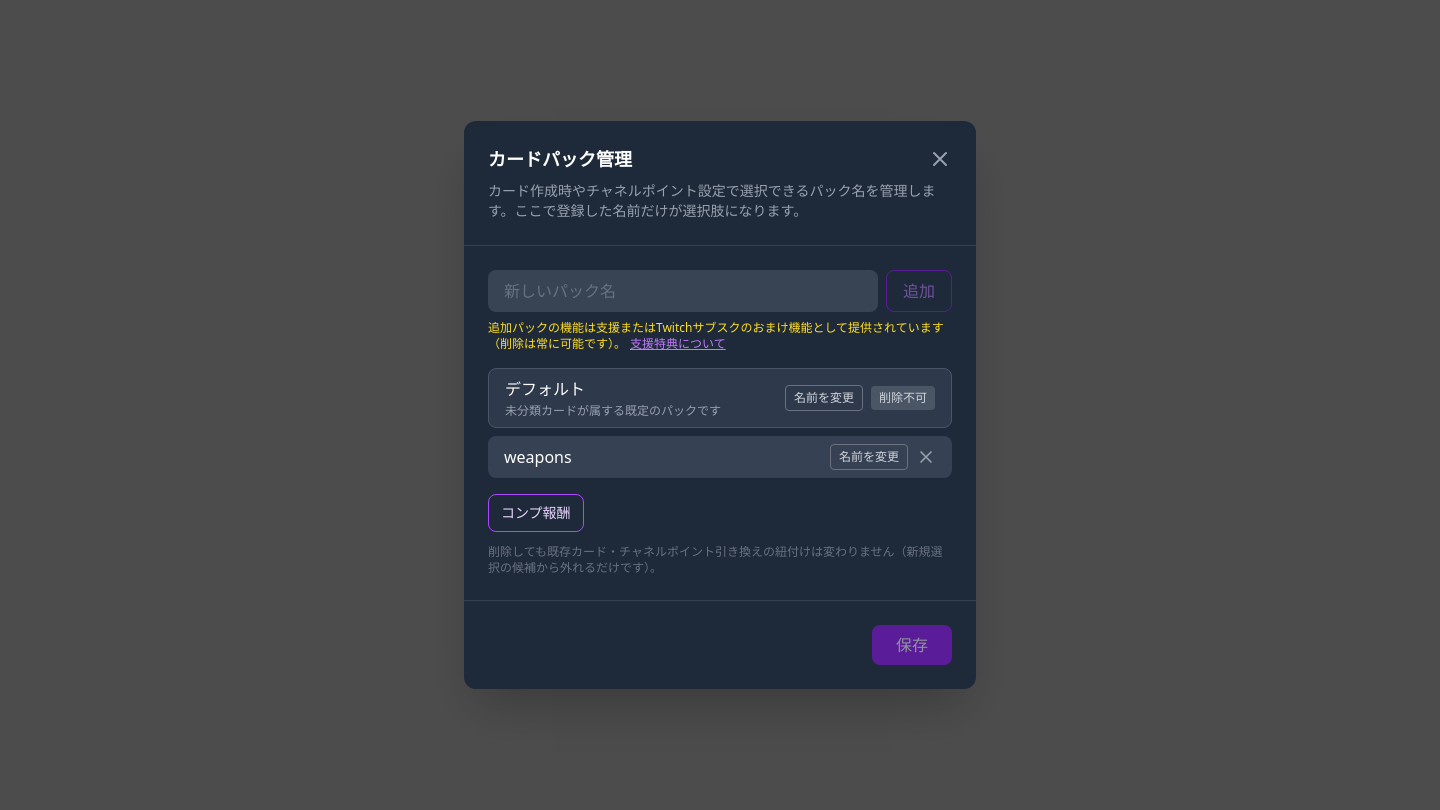
Test: CardPackModal › renaming an existing pack › shows a server-returned error and keeps editing on failure
Click the button with aria-label "Rename weapons".
click(869, 457)  # box [830, 444, 908, 470]
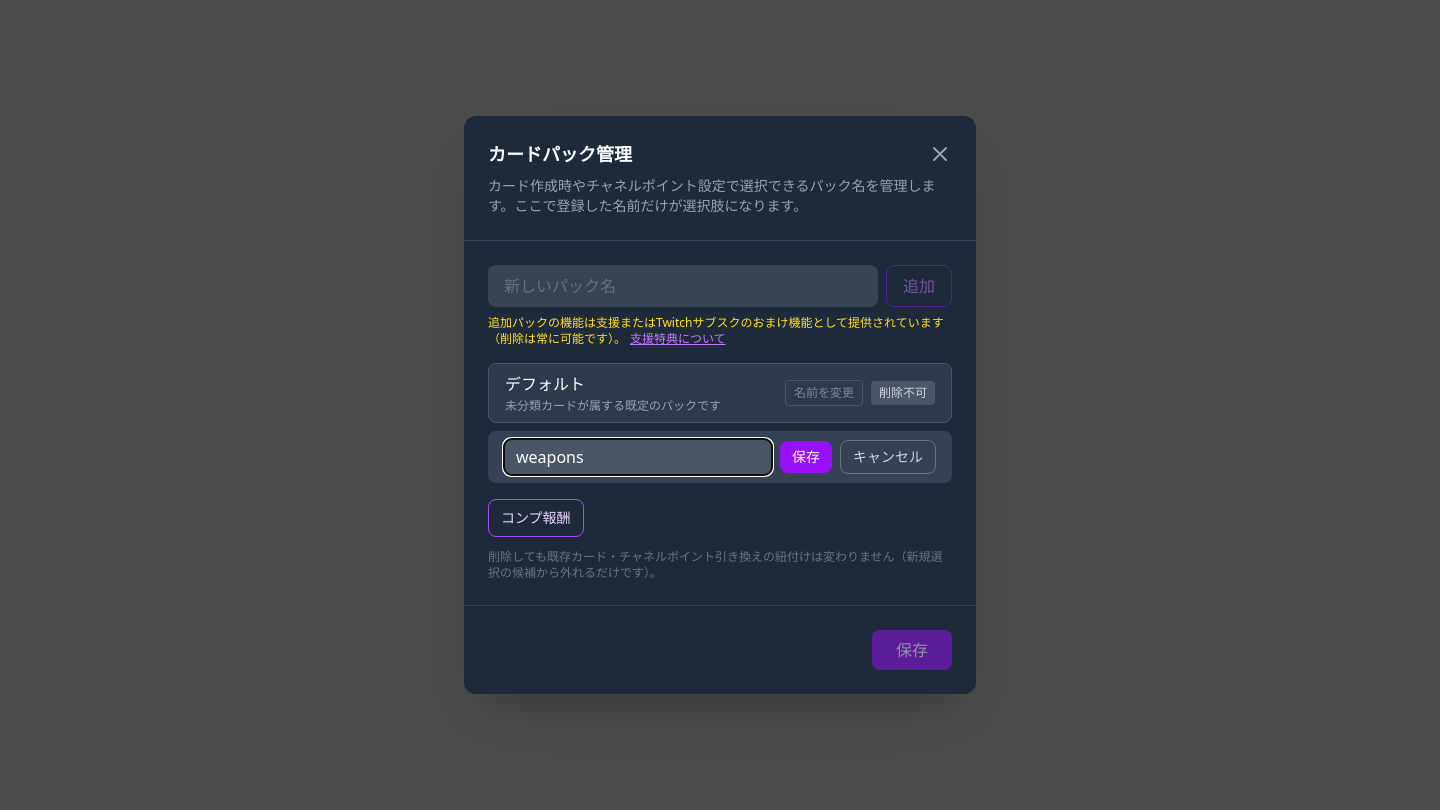
Replace the text in the 2nd field with "characters" at [638, 457], box [504, 439, 772, 475]
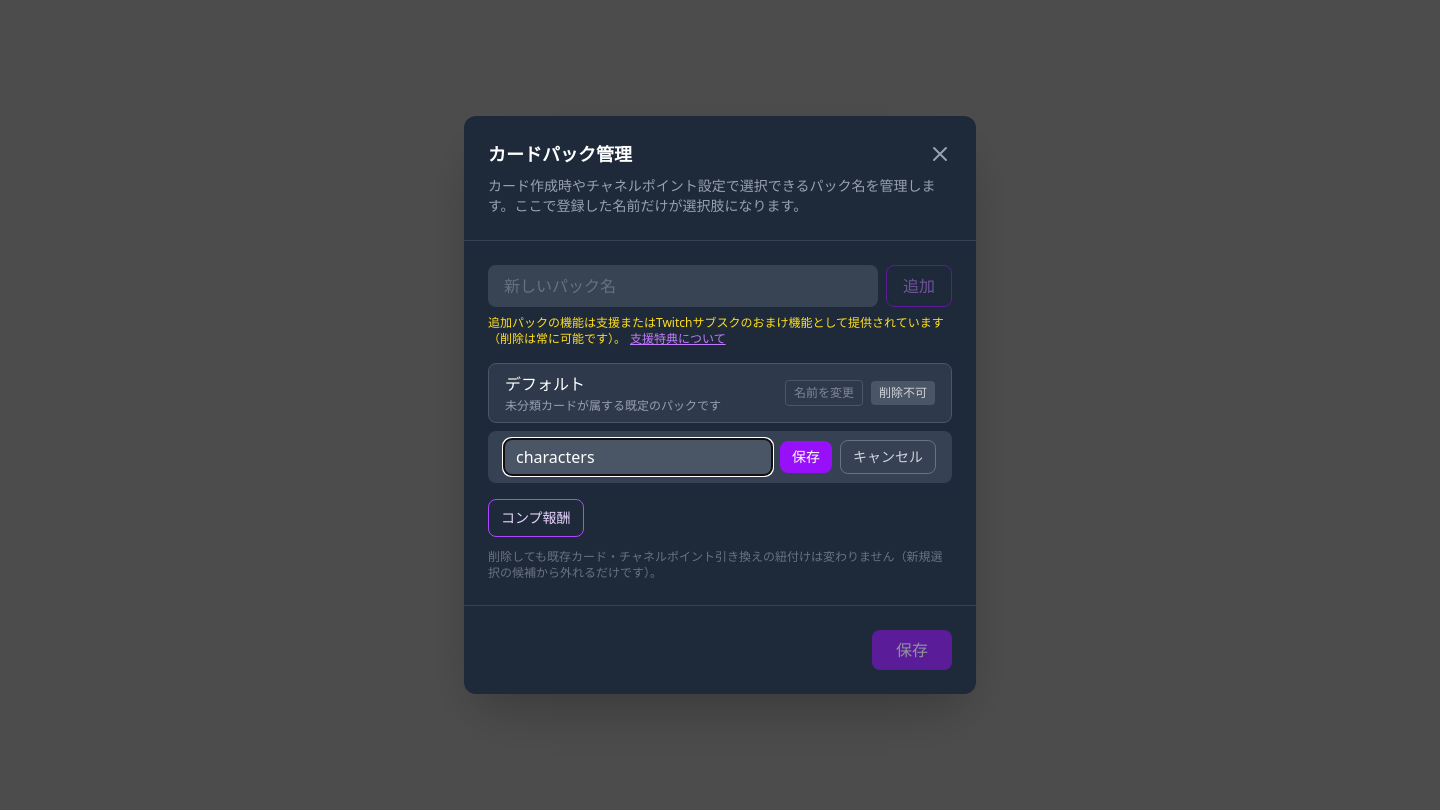
Click the button "保存" below "未分類カードが属する既定のパックです".
click(806, 457)  # box [780, 441, 832, 473]
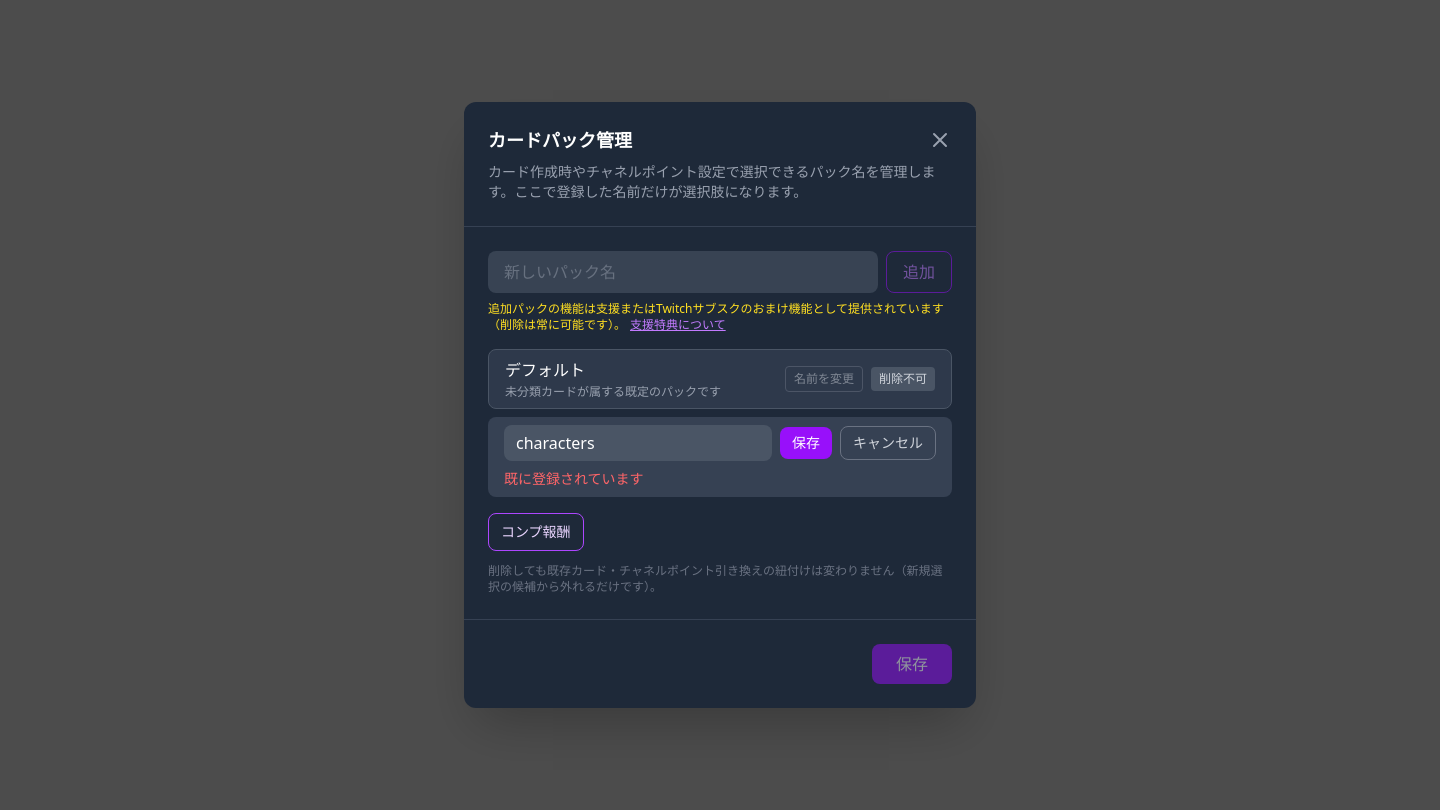
Result: the text "既に登録されています" is shown at [504, 469, 644, 488]
